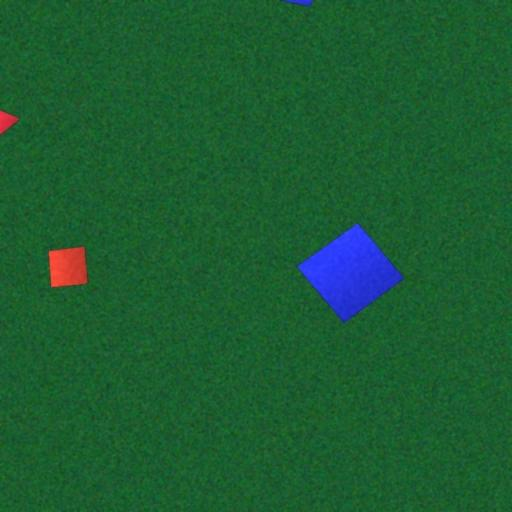BLUE_SQUARE: (296, 222, 405, 323)
RED_SQUARE: (48, 246, 89, 288)
